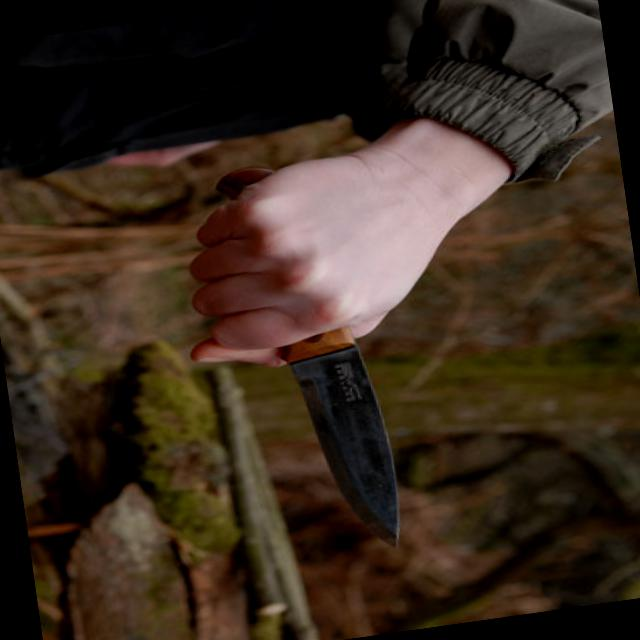knife: (176, 213, 432, 588)
